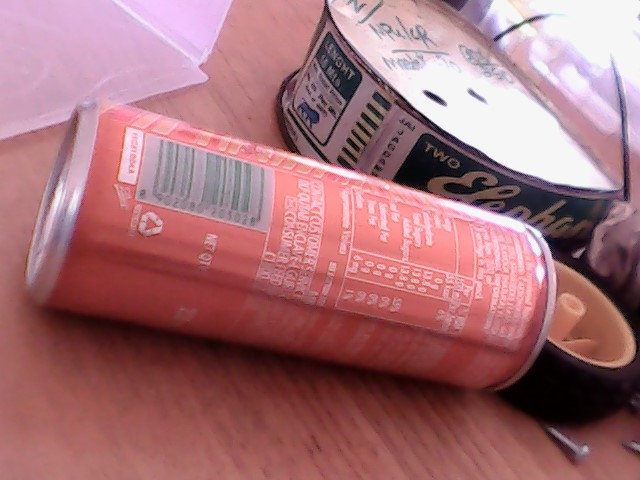Metal: (74, 91, 538, 395)
